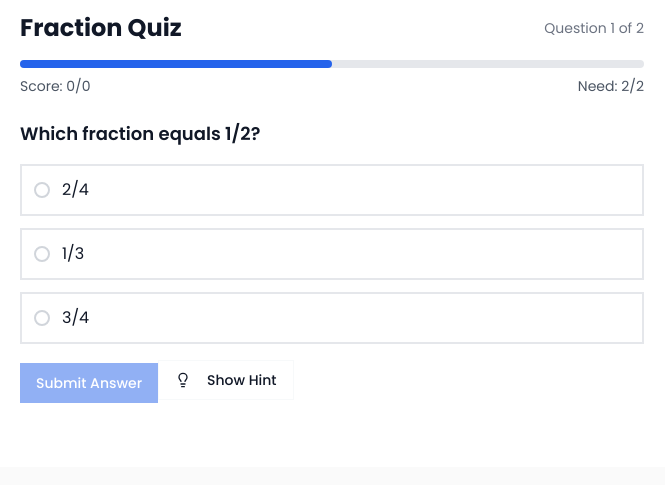
Scenario: IndependentPractice › shows feedback after answer submission
Click the button with test id "option-a": (42, 190) [20,164,644,216]
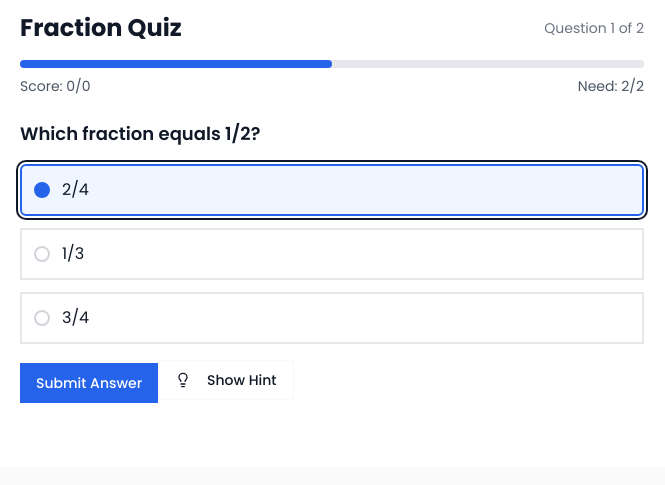
Click the button with test id "submit-question-button": (89, 383) [20,363,158,403]
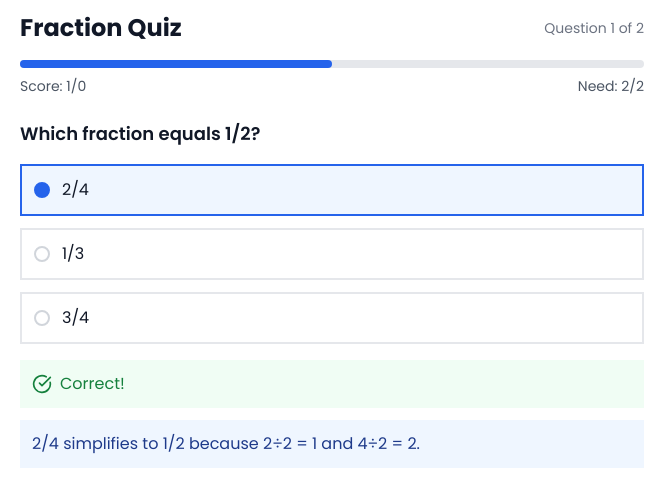
Expected: the text "Correct!" is shown, [60,372,125,396]
